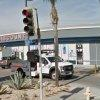traffic lights: (22, 8, 34, 37)
